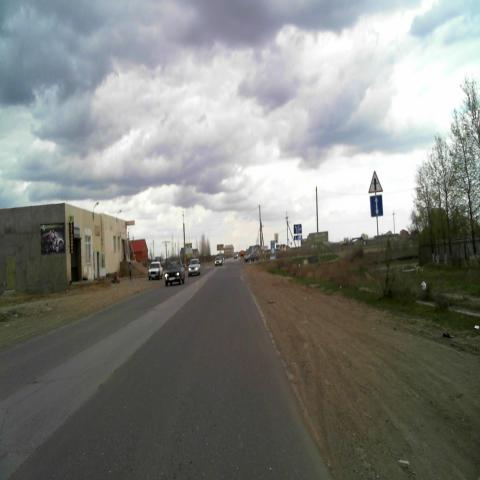5_8: (370, 195, 384, 217)
